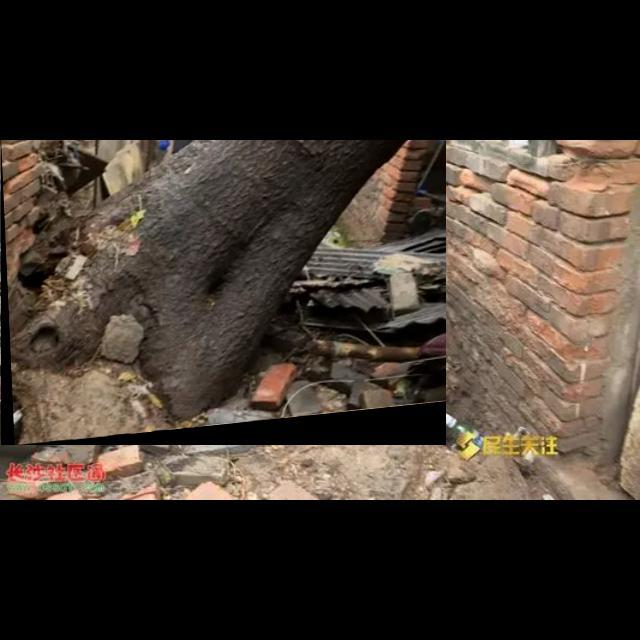fallen_tree: (1, 140, 447, 446)
